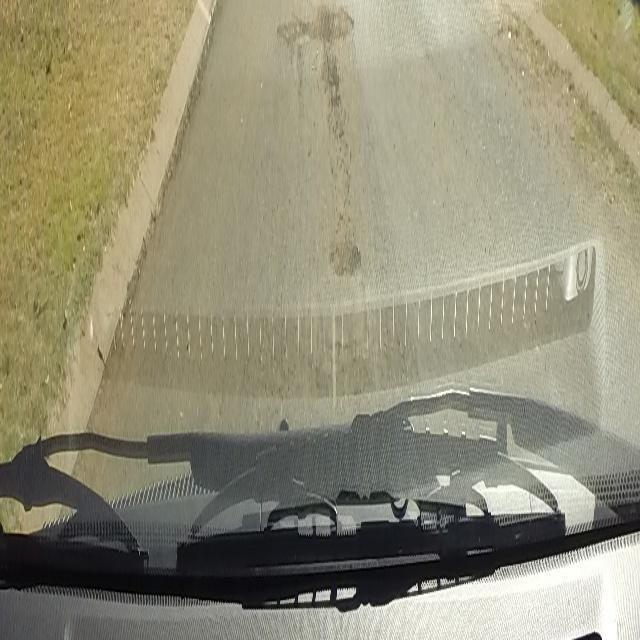pothole: (276, 0, 370, 278)
